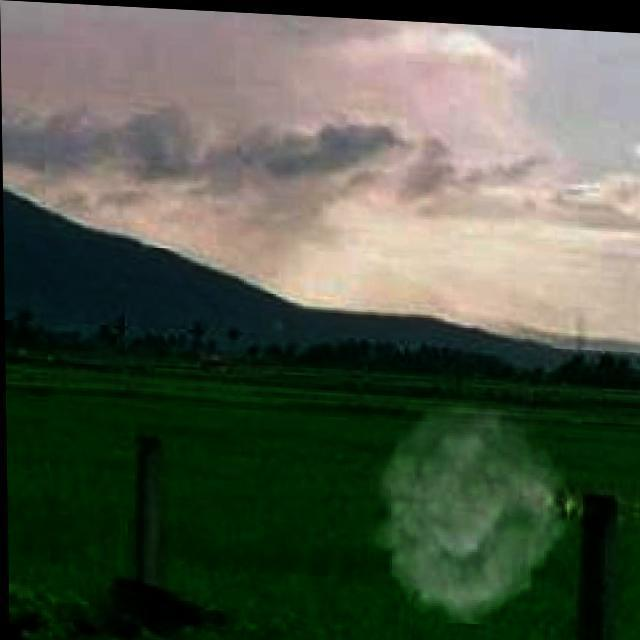Smoke: (364, 388, 574, 631)
